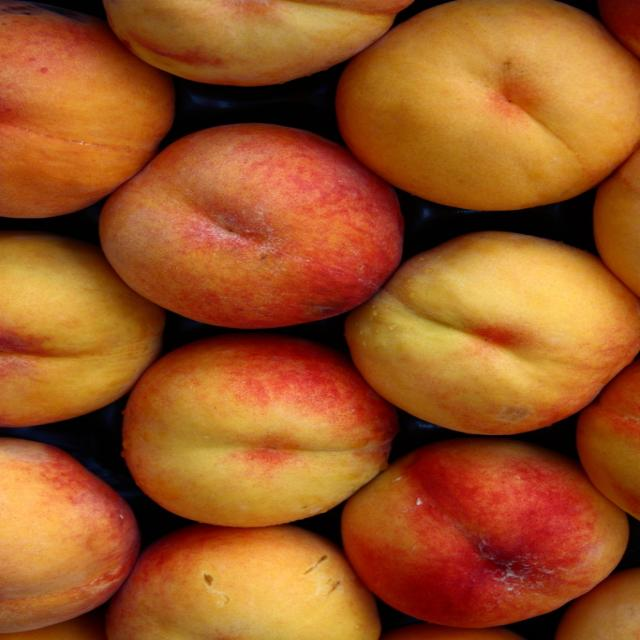Peach: (0, 0, 639, 639), (93, 125, 410, 334)
